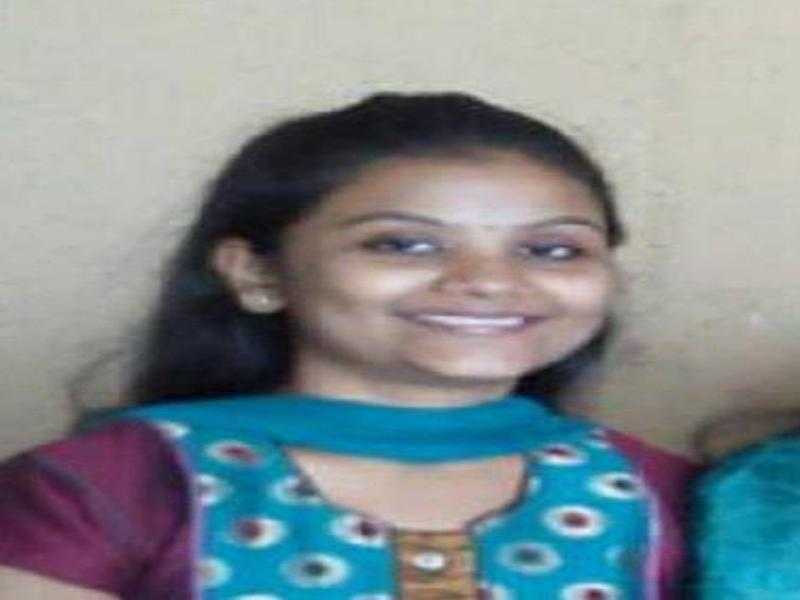without_mask: (289, 180, 612, 385)
